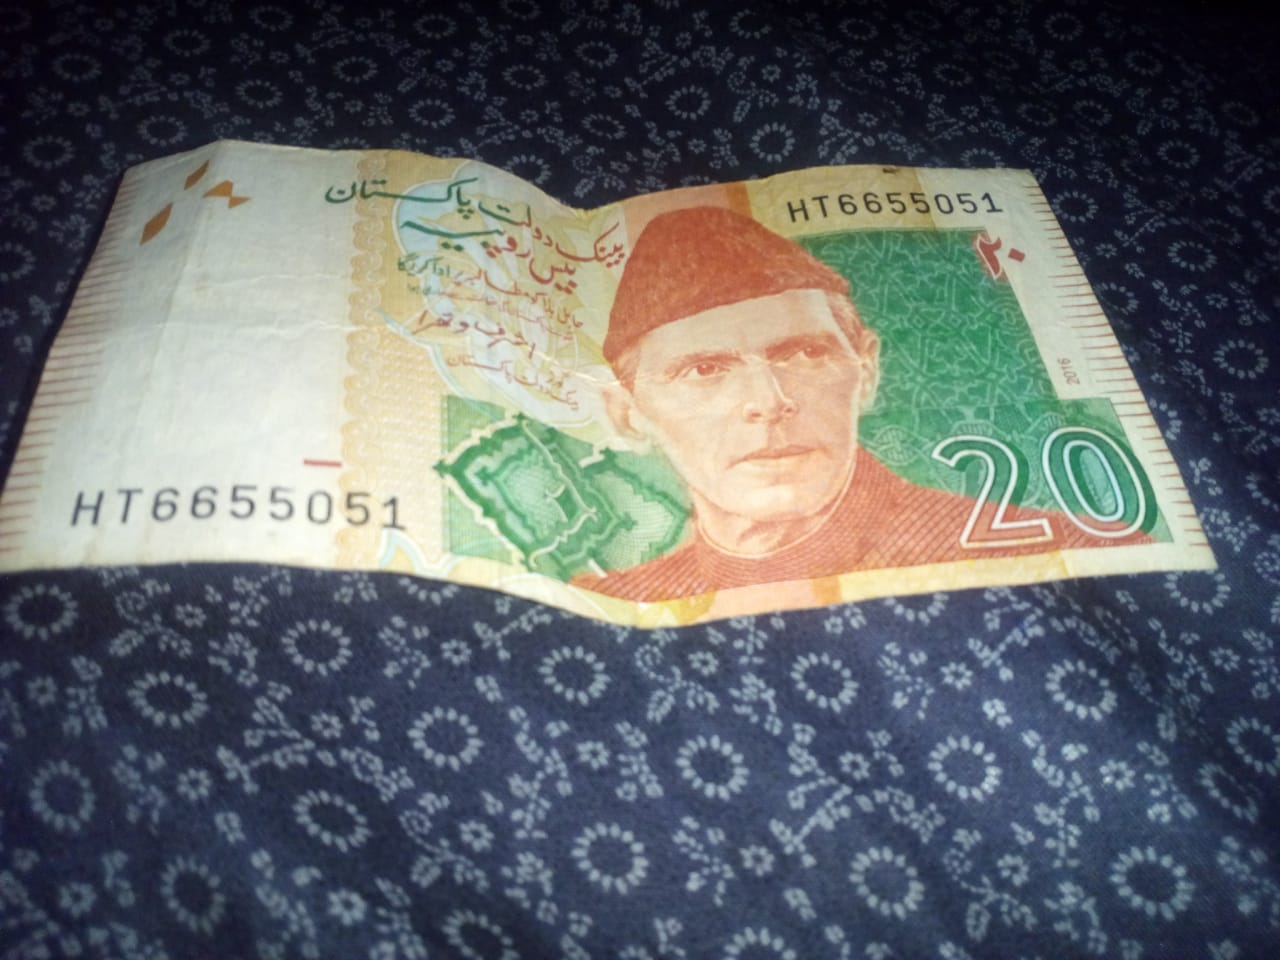20 rupee: (19, 106, 1215, 664)
